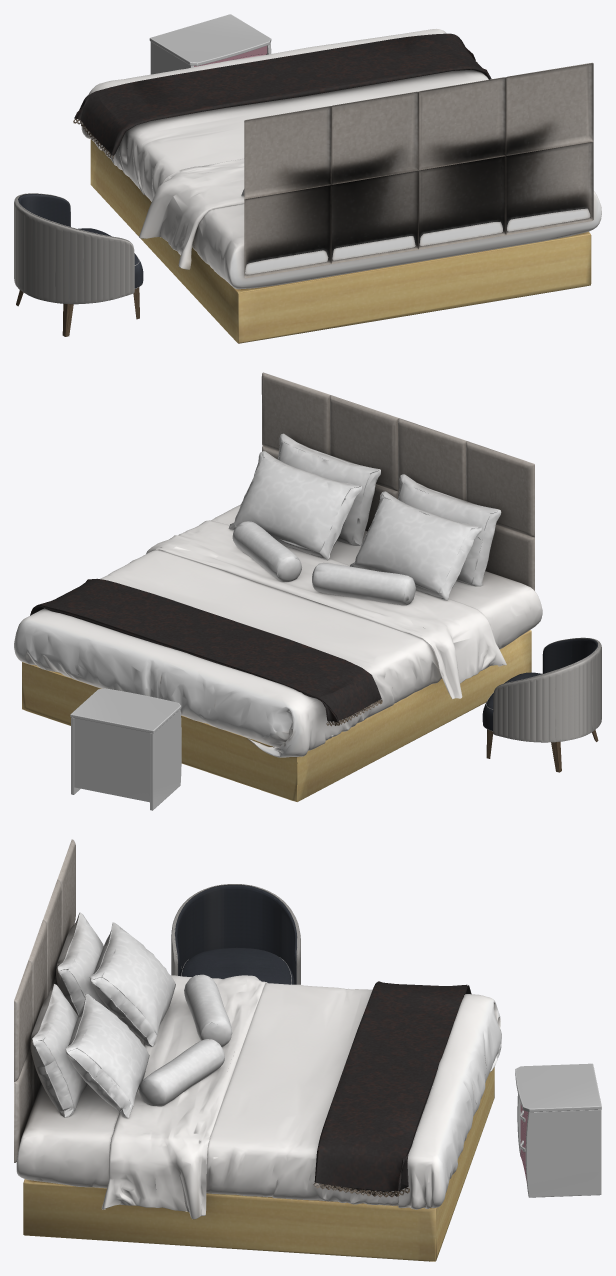
3 renders of one model, top to bottom at view 1: azimuth 30°, elevation 25°; view 2: azimuth 150°, elevation 25°; view 3: azimuth 270°, elevation 25°, orthographic. The views are drawn at different scales.
Visible parts, largest first — view 1: solid_001, raw_model.003, raw_model.004; view 2: solid_001, raw_model.004, raw_model.003; view 3: solid_001, raw_model.003, raw_model.004.
Part boxes in pixels (x1,y1,x2,y2): solid_001: [73, 29, 601, 343]; raw_model.003: [14, 193, 143, 336]; raw_model.004: [149, 14, 271, 74]; solid_001: [14, 372, 542, 801]; raw_model.004: [70, 688, 181, 810]; raw_model.003: [482, 637, 601, 772]; solid_001: [14, 839, 501, 1261]; raw_model.003: [171, 884, 300, 984]; raw_model.004: [515, 1063, 601, 1197].
Size of the model in its own units: 3.43 by 1.39 by 3.17.
Materials: 3 (3 with a texture image).
